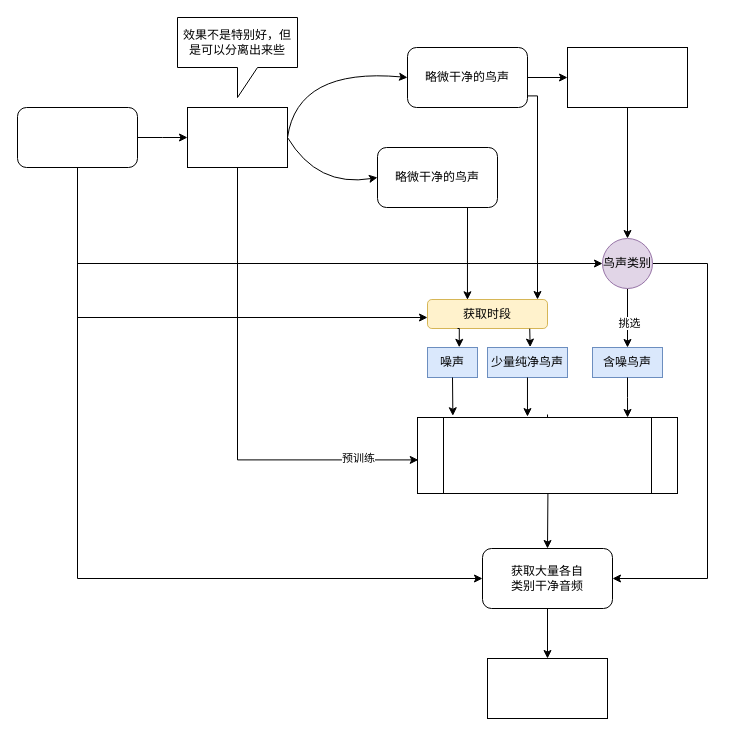
Some shapes in this 733 by 736 pixel diagram are drawn without their labels. The shapes that lost their labels are listed below. From the top down, each one's box as (x1, y1, x2, y2) in pixels, then its label:
(566, 46, 688, 108): Ecapa-tdnn
(16, 106, 138, 168): 录制鸟声
(186, 106, 288, 168): MossForms2 预处理去噪/分离
(416, 416, 678, 494): MossForms2去噪增强
(486, 658, 608, 718): 检测最低频 (目前仅AU直接观察)
